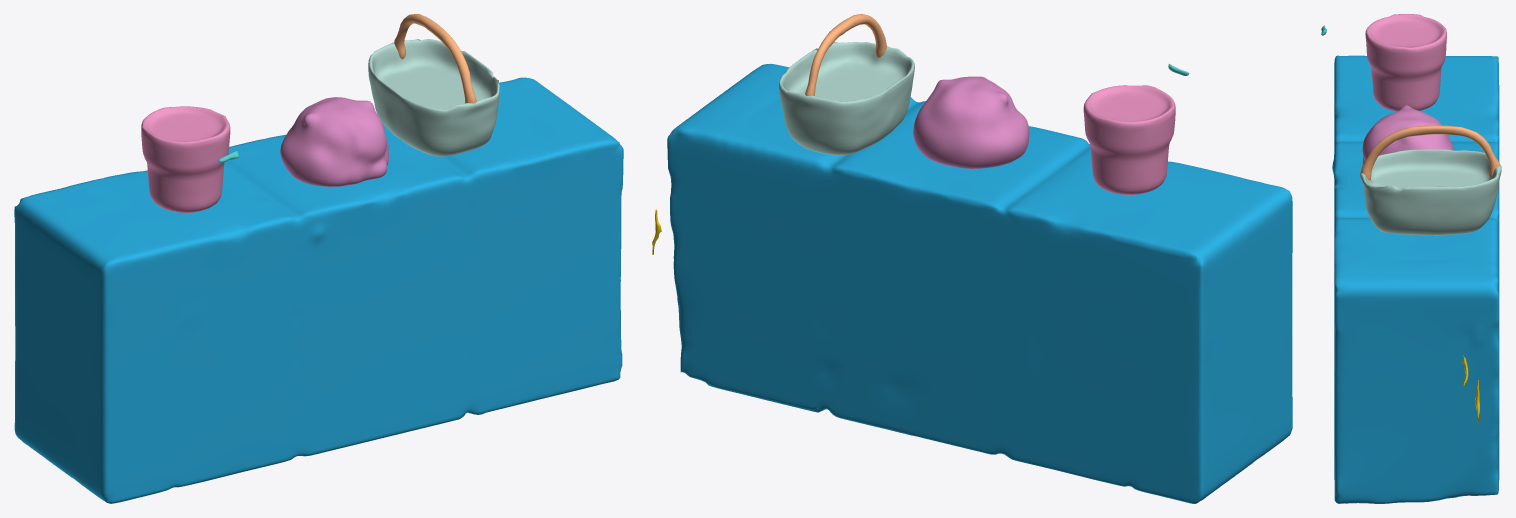
Rendered from kids柜子 (1).fbx.
3 renders of one model, left to right at view 1: azimuth 30°, elevation 25°; view 2: azimuth 150°, elevation 25°; view 3: azimuth 270°, elevation 25°, orthographic. The views are drawn at different scales.
Parts seen in each view (by area): view 1: root.0, root.1, root.3, root.4, root.6; view 2: root.0, root.1, root.3, root.4, root.6; view 3: root.0, root.1, root.3, root.4, root.6, root.5.
Part boxes in pixels (left/top/right/bottom): root.0: left=14, top=77, right=623, bottom=503; root.1: left=368, top=39, right=499, bottom=156; root.3: left=141, top=106, right=230, bottom=213; root.4: left=280, top=97, right=388, bottom=186; root.6: left=394, top=14, right=476, bottom=103; root.0: left=667, top=63, right=1292, bottom=503; root.1: left=779, top=42, right=914, bottom=155; root.3: left=1083, top=85, right=1175, bottom=195; root.4: left=913, top=76, right=1029, bottom=168; root.6: left=805, top=14, right=886, bottom=96; root.0: left=1332, top=55, right=1499, bottom=503; root.1: left=1360, top=149, right=1501, bottom=235; root.3: left=1365, top=14, right=1446, bottom=111; root.4: left=1362, top=105, right=1453, bottom=164; root.6: left=1361, top=125, right=1499, bottom=180; root.5: left=1462, top=355, right=1479, bottom=422.
Size of the model in its own units: 175 by 108 by 55.03.
